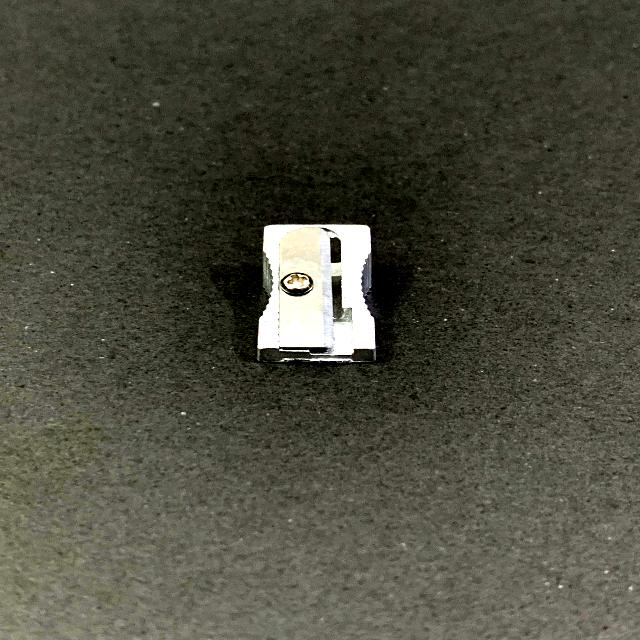Sharpner: (212, 188, 429, 390)
